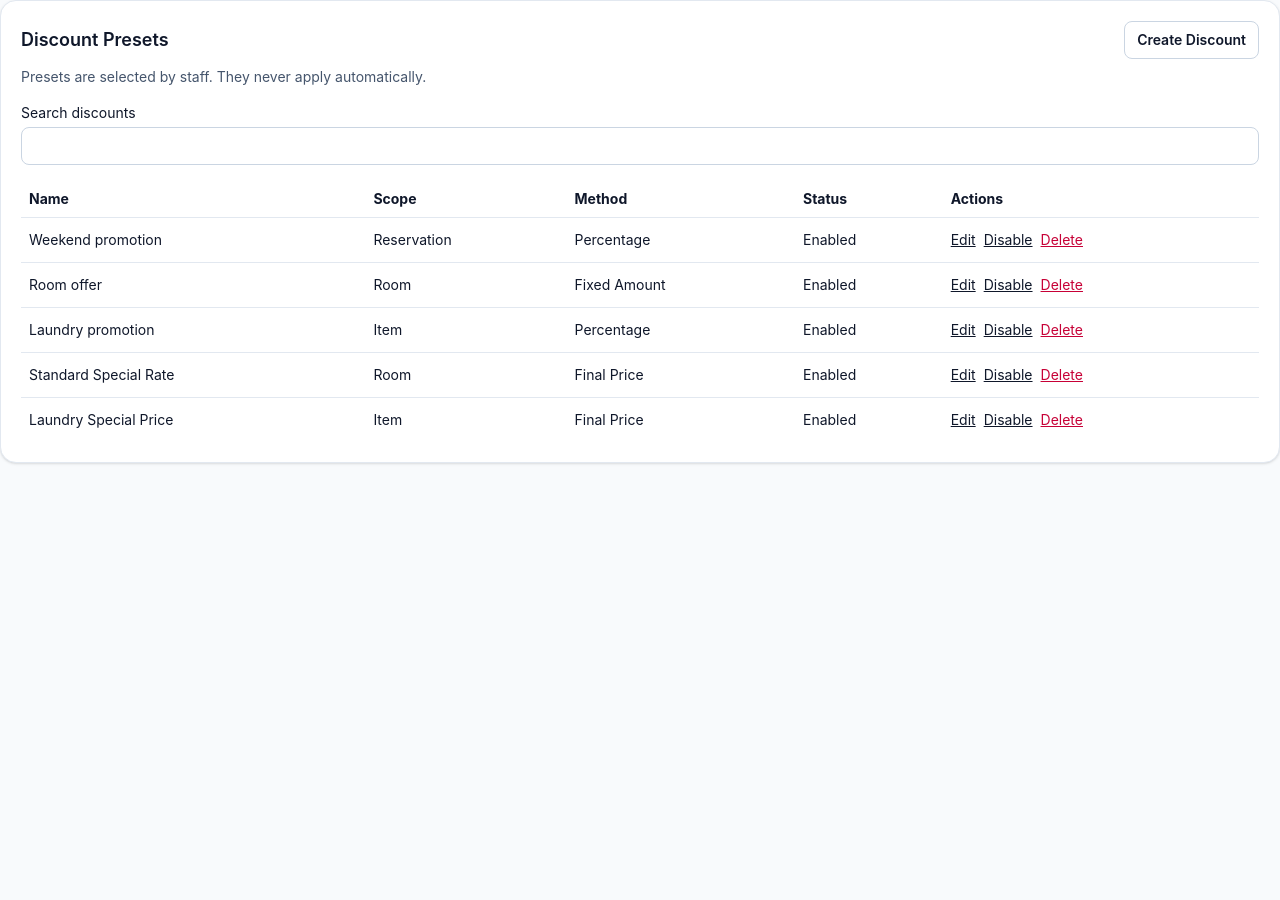
Scenario: unified discount builder › loads configured rates and saves partial coverage including zero
The image size is (1280, 900).
Click the button "Create Discount" at (1192, 40), box [1124,21,1259,59]
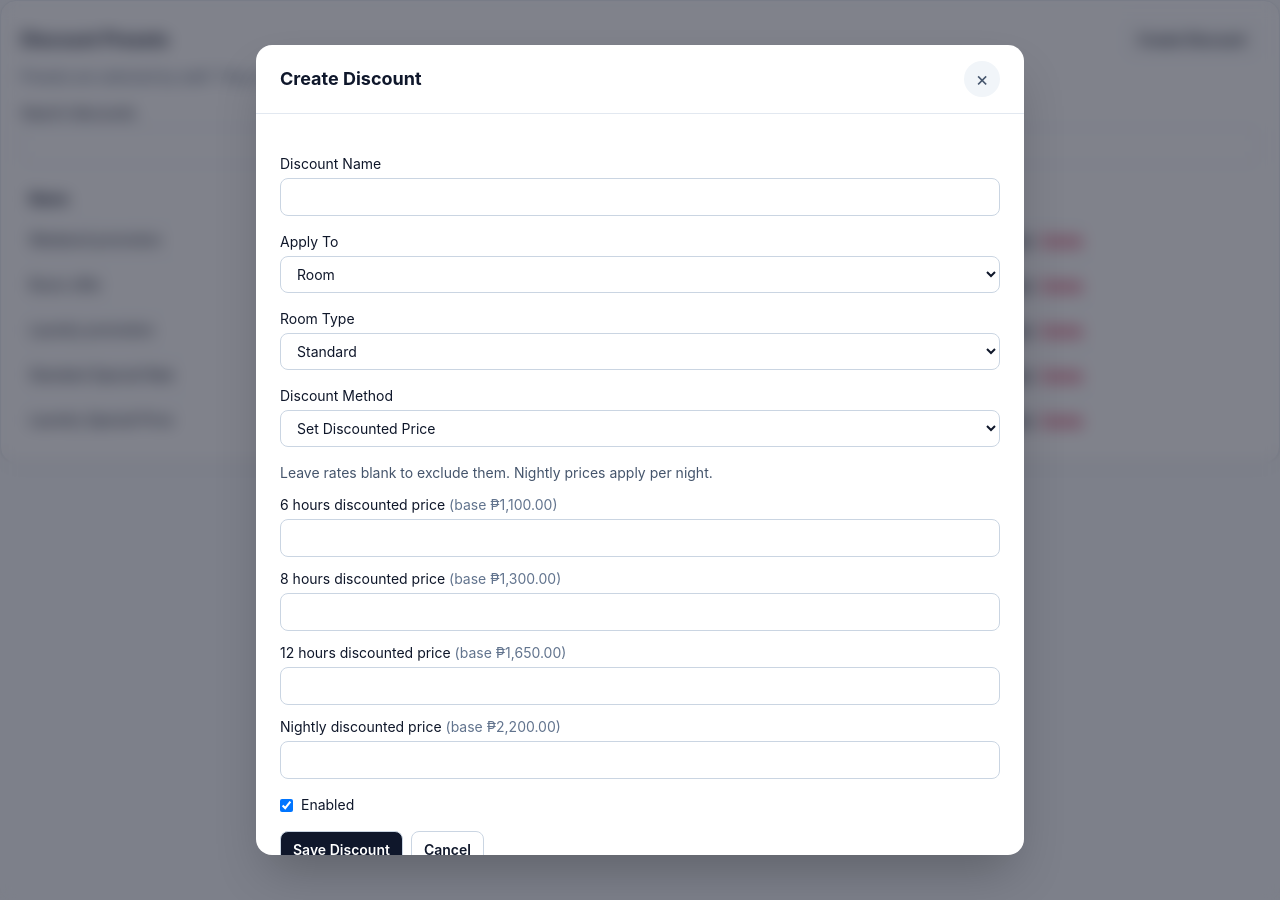
Type "Free short stay" into the field labelled "Discount Name" at (640, 197), box [280,178,1000,216]
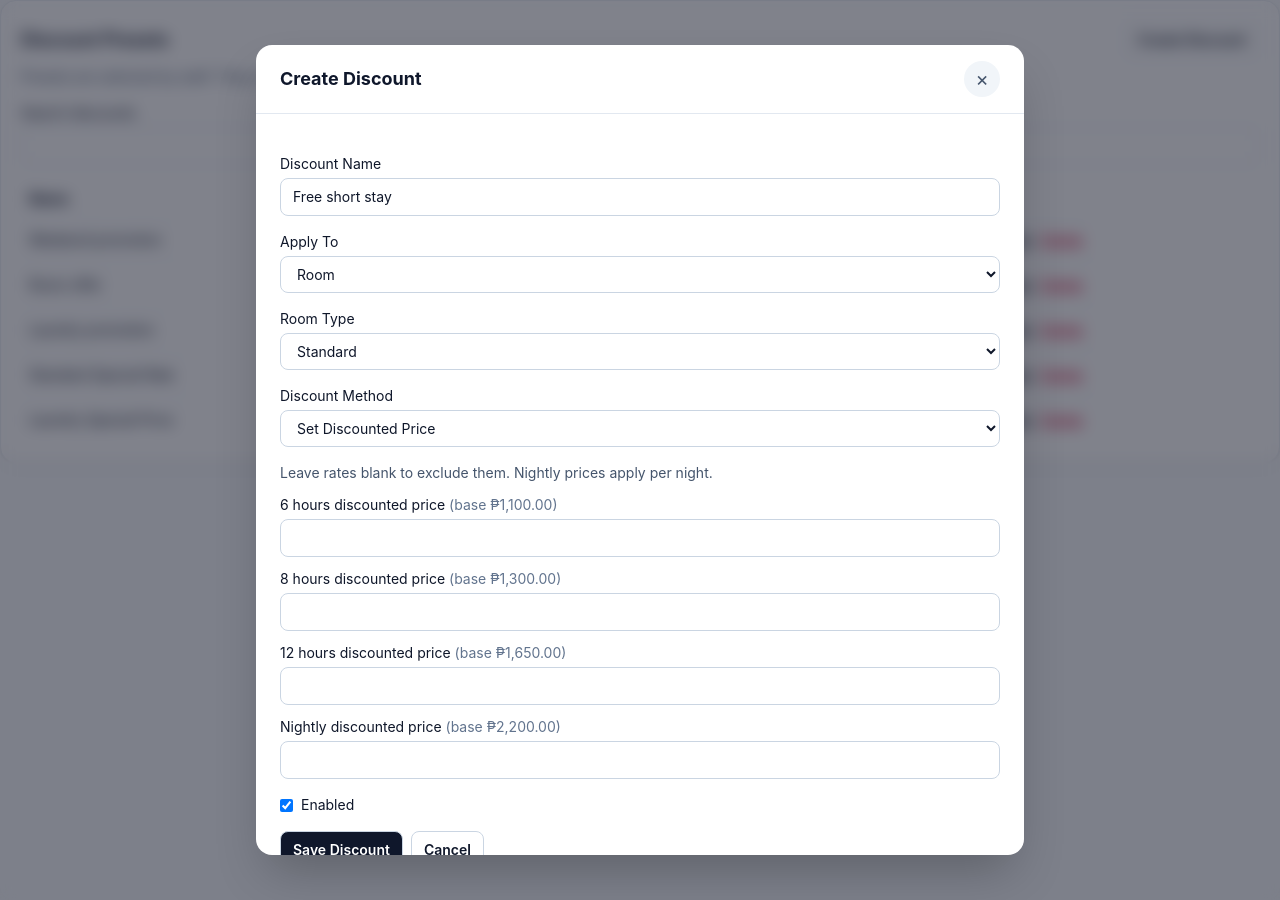
Type "0" into the number field labelled "6 hours discounted price" at (640, 538), box [280,519,1000,557]
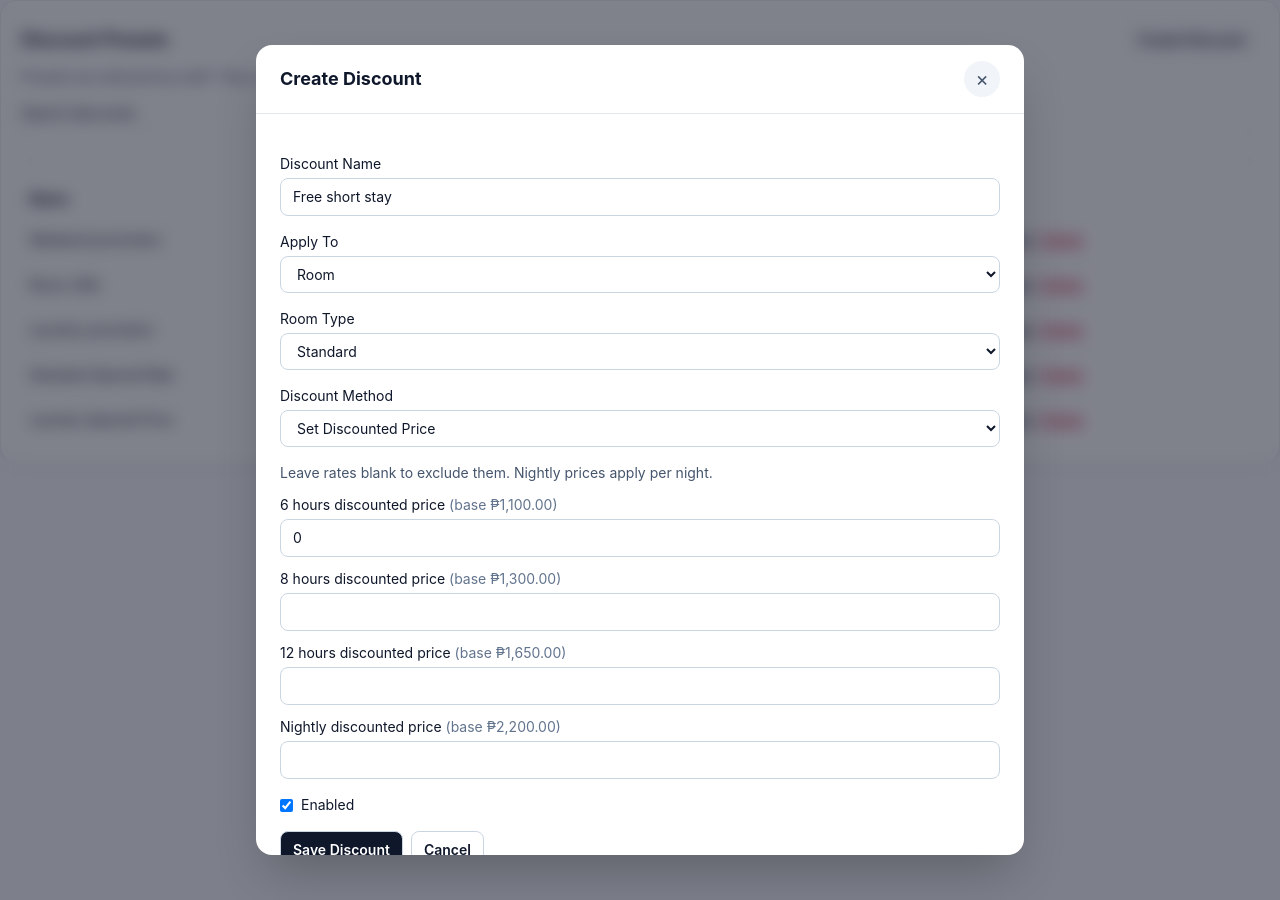
Expected: the number field labelled "Nightly discounted price" is shown, [280,741,1000,779]
Click the button "Save Discount" at (341, 850), box [280,831,403,869]
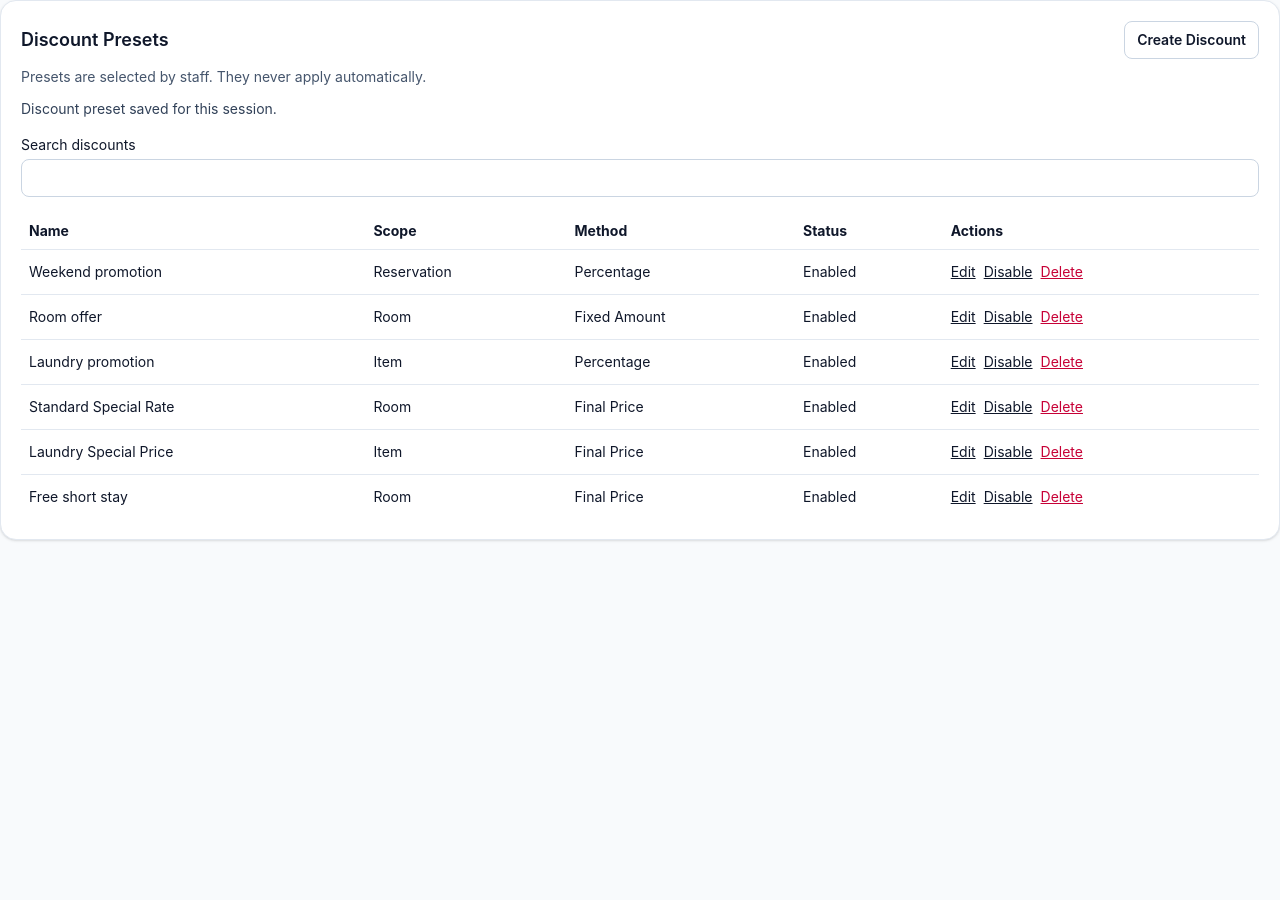
Expected: the text "Final Price" in the row of "Free short stay" is shown, [574,488,644,505]
Click the button "Edit" in the row of "Free short stay" at (963, 497), box [951,487,976,507]
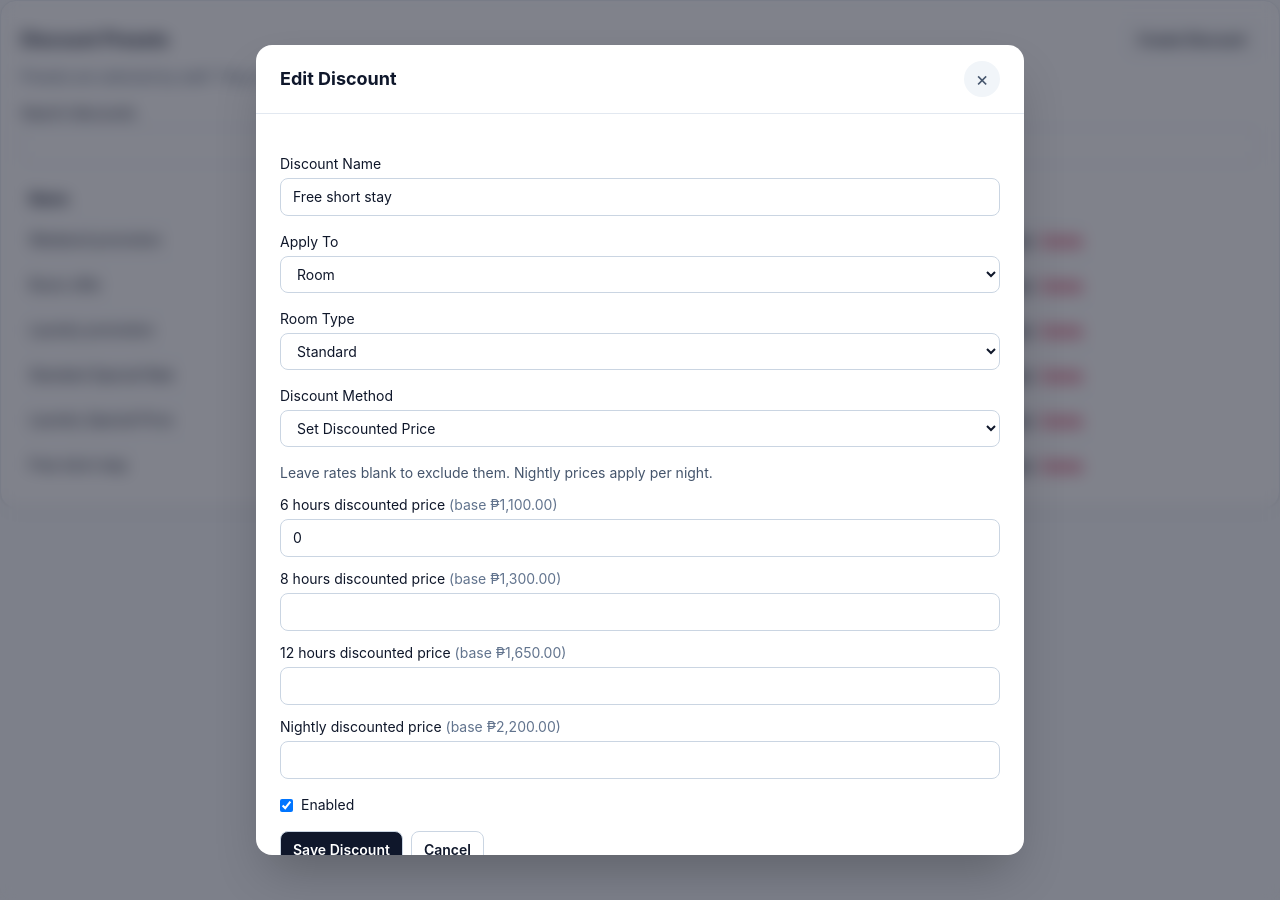
Expected: the number field labelled "8 hours discounted price" is empty, [280,593,1000,631]
Expected: the number field labelled "6 hours discounted price" holds "0", [280,519,1000,557]
